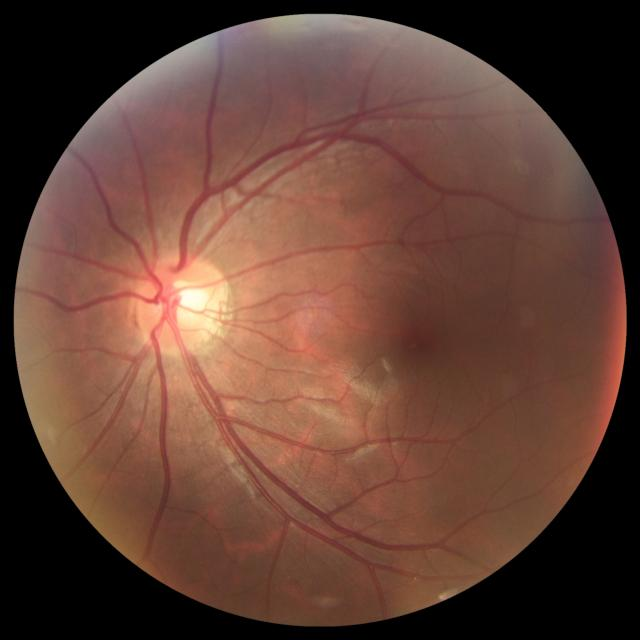OC: (162, 280, 205, 324)
OD: (135, 255, 228, 353)
